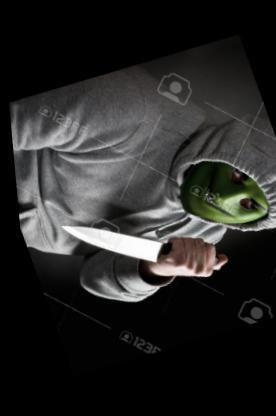knife: (47, 186, 212, 314)
